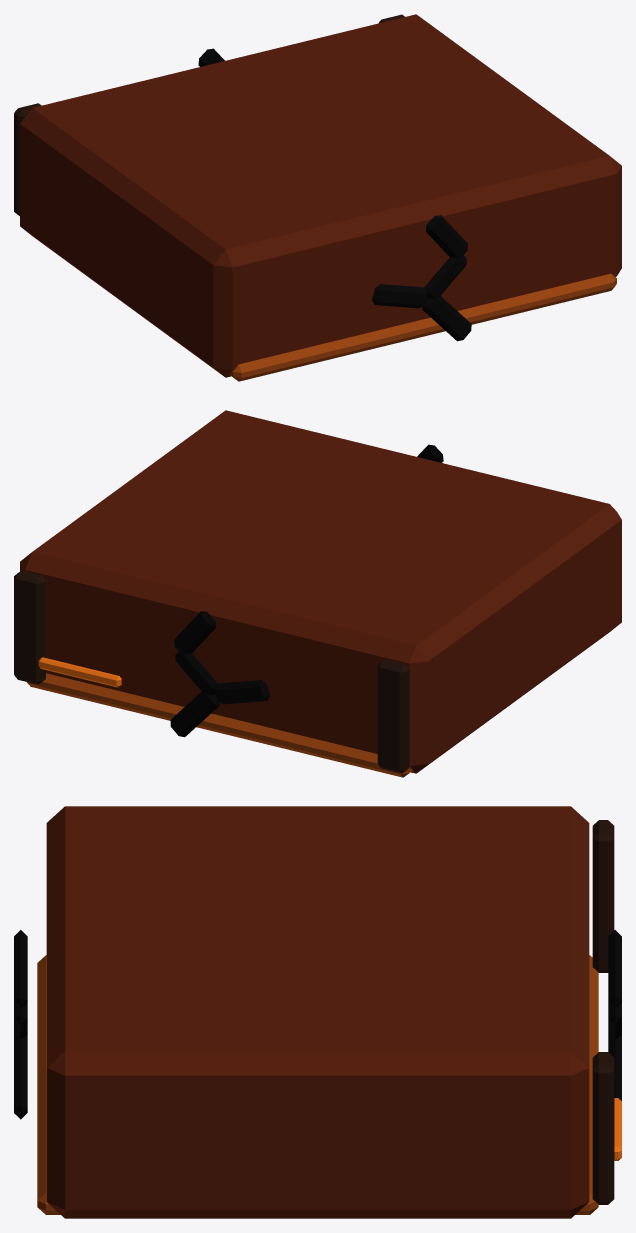
Rendered from falling_ruin_idle.obj.
The picture shows the model from 3 angles, top to bottom: view 1: azimuth 30°, elevation 25°; view 2: azimuth 150°, elevation 25°; view 3: azimuth 270°, elevation 25°; orthographic projection. The views are drawn at different scales.
Visible parts, largest first — view 1: FallingRuin_Idle; view 2: FallingRuin_Idle; view 3: FallingRuin_Idle.
Boxes of the visible parts, x1,y1,x2,y2 form: FallingRuin_Idle: (14,14,621,381); FallingRuin_Idle: (14,410,621,777); FallingRuin_Idle: (14,806,621,1218).
Bounding box in the file's own units: 1 × 0.3087 × 0.986.
1 material, 1 textured.
